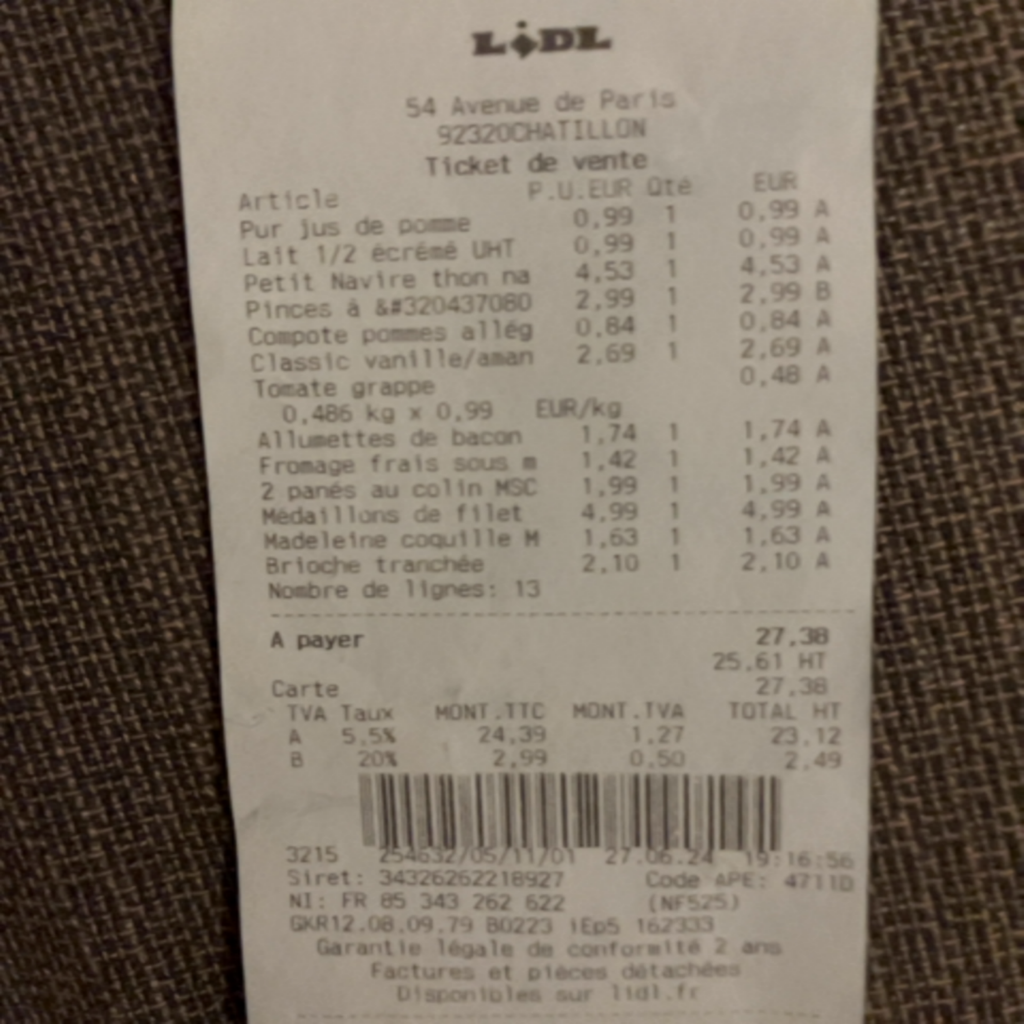recipt: (160, 0, 879, 1024)
